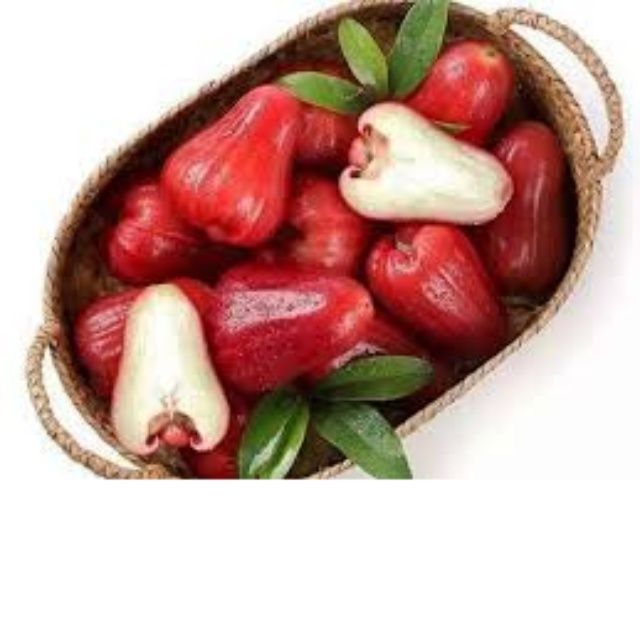xoai: (164, 90, 307, 258), (198, 266, 378, 390), (366, 221, 502, 352)
